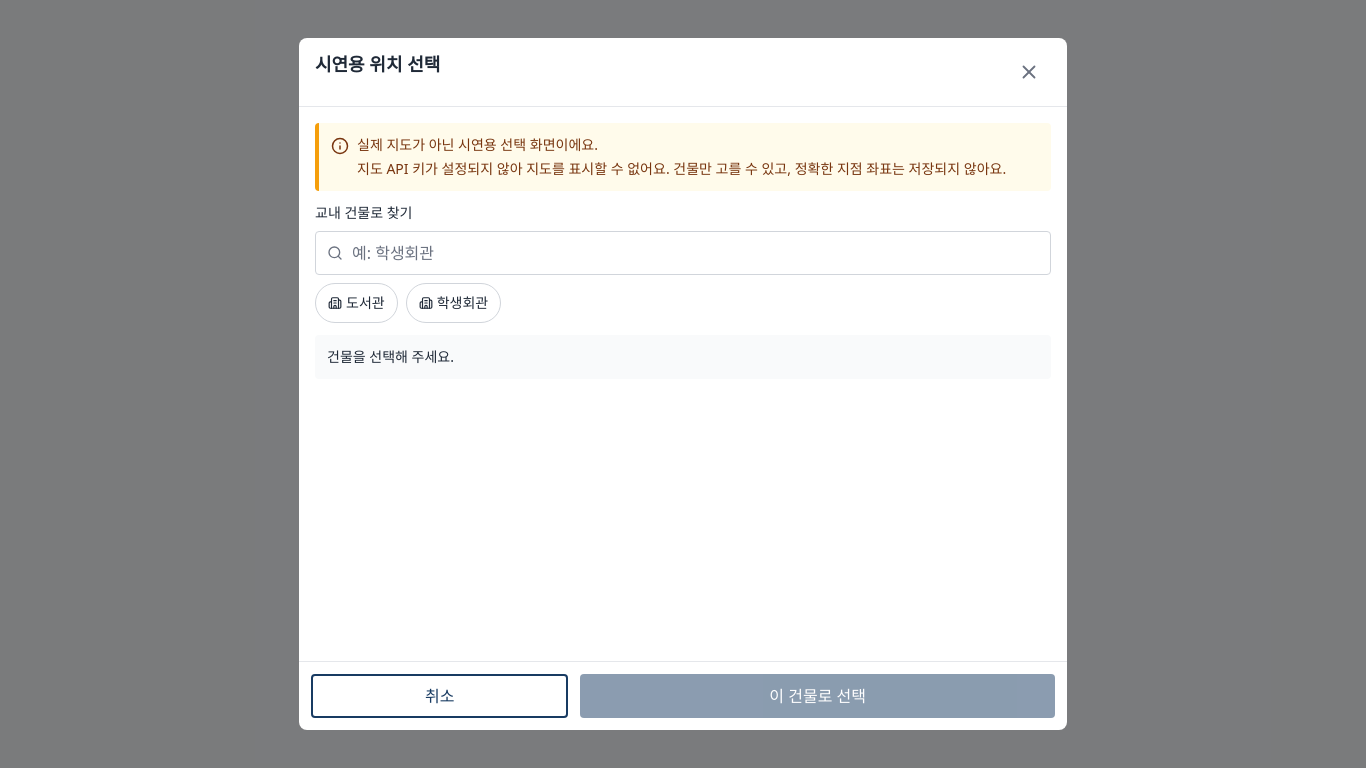
Test: MapLocationPicker (지도 키 없음) › 건물 이름으로 검색한다
Type "도서" into the search field labelled "교내 건물로 찾기" at point(683, 253), box [315,231,1051,275]
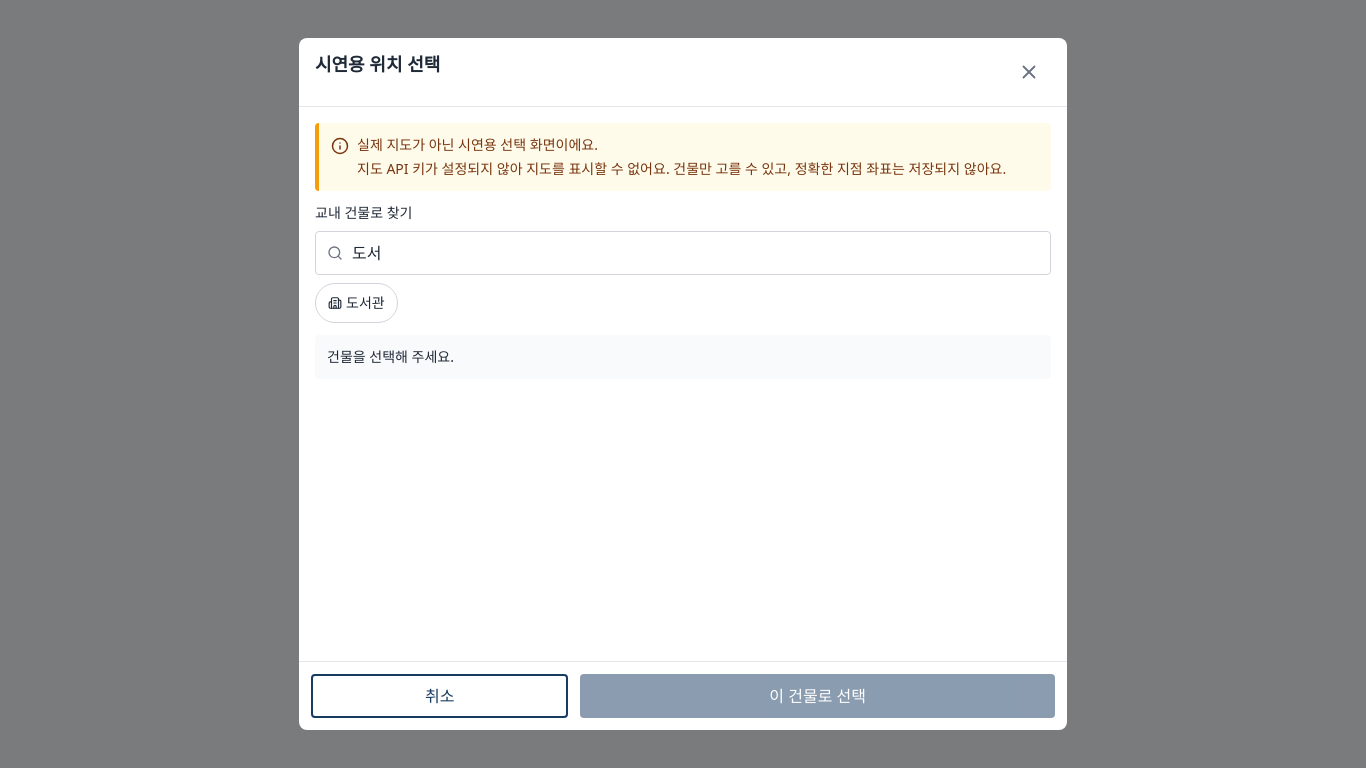
Expected: the button "도서관" is shown, [315,283,398,323]
Result: the button "학생회관" is gone
